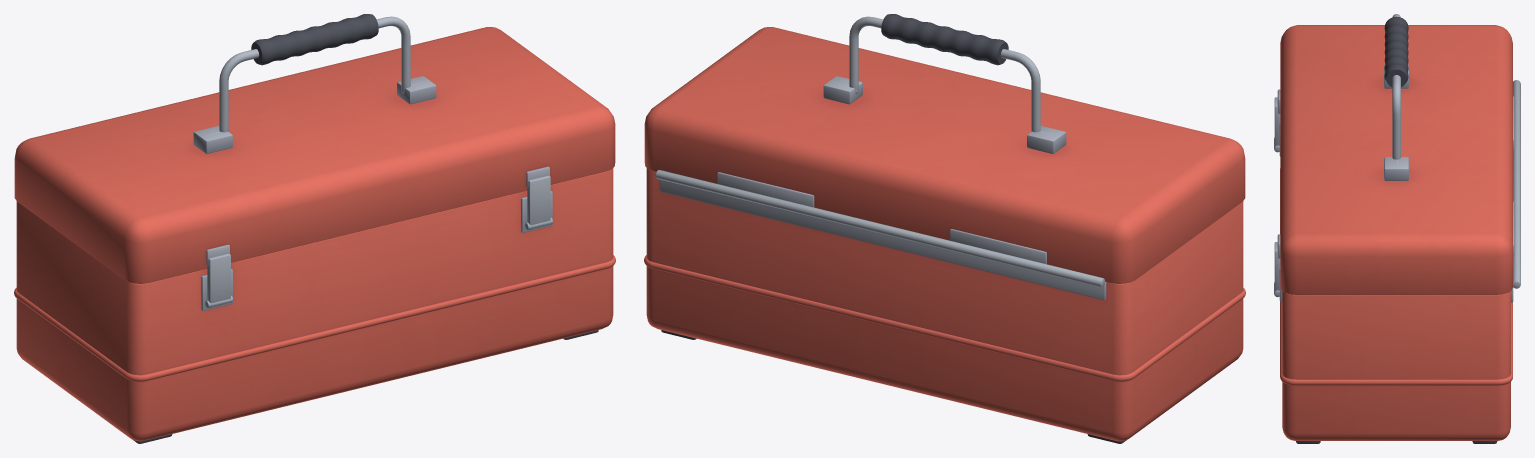
The model's file is toolbox.glb.
The picture shows the model from 3 angles, left to right: view 1: azimuth 30°, elevation 25°; view 2: azimuth 150°, elevation 25°; view 3: azimuth 270°, elevation 25°; orthographic projection. The views are drawn at different scales.
Parts seen in each view (by area): view 1: toolbox_body, toolbox_lid, toolbox_carry_handle; view 2: toolbox_body, toolbox_lid, toolbox_carry_handle; view 3: toolbox_lid, toolbox_body, toolbox_carry_handle.
Part boxes in pixels (left/top/right/bottom): toolbox_body: left=14, top=168, right=615, bottom=443; toolbox_lid: left=14, top=27, right=615, bottom=283; toolbox_carry_handle: left=208, top=14, right=422, bottom=134; toolbox_body: left=644, top=168, right=1245, bottom=443; toolbox_lid: left=644, top=27, right=1245, bottom=283; toolbox_carry_handle: left=837, top=14, right=1051, bottom=134; toolbox_lid: left=1277, top=25, right=1514, bottom=294; toolbox_body: left=1274, top=80, right=1520, bottom=443; toolbox_carry_handle: left=1384, top=14, right=1408, bottom=164.
Size of the model in its own units: 0.5044 by 0.3175 by 0.2377.
4 materials, 2 textured.
